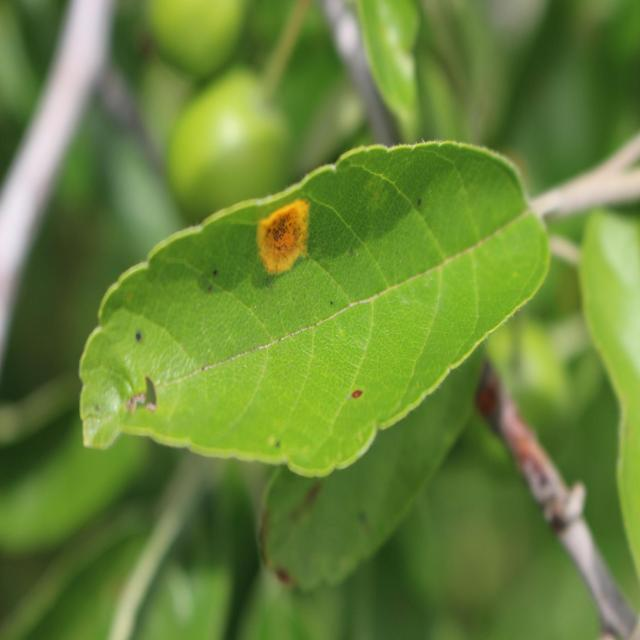Rust: (248, 192, 316, 282)
